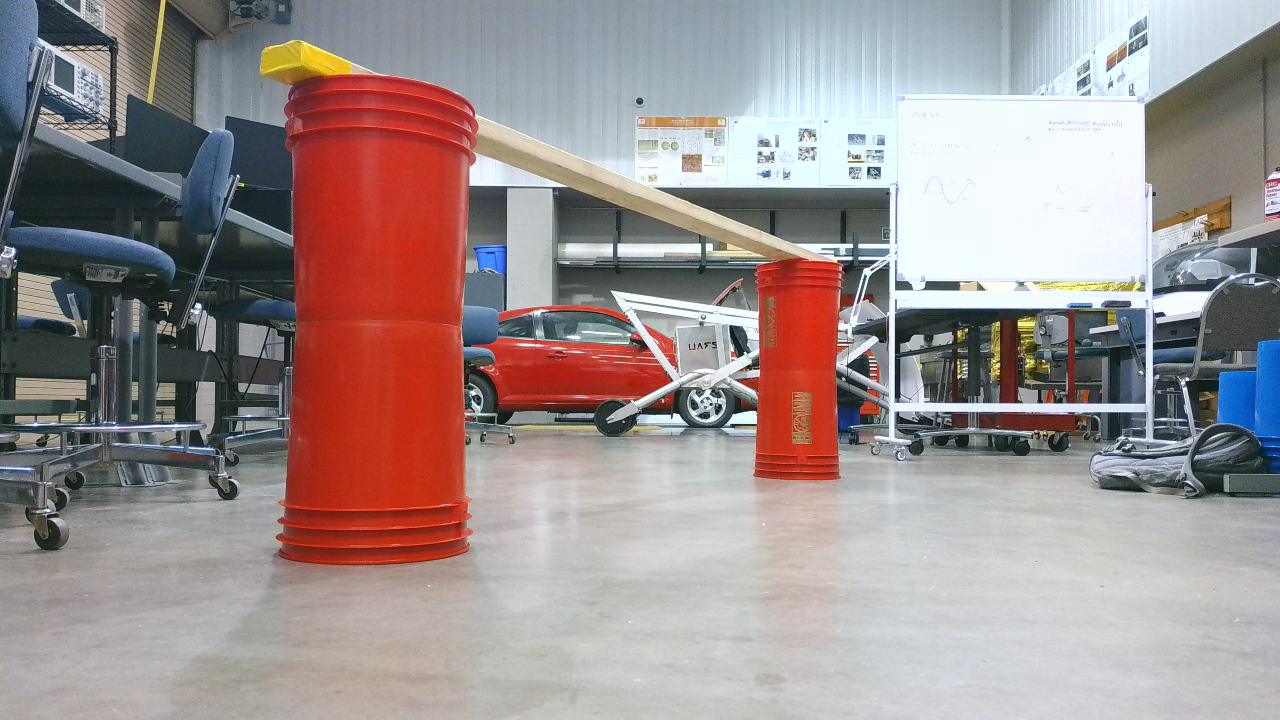red_bucket_arch: (258, 37, 855, 574)
